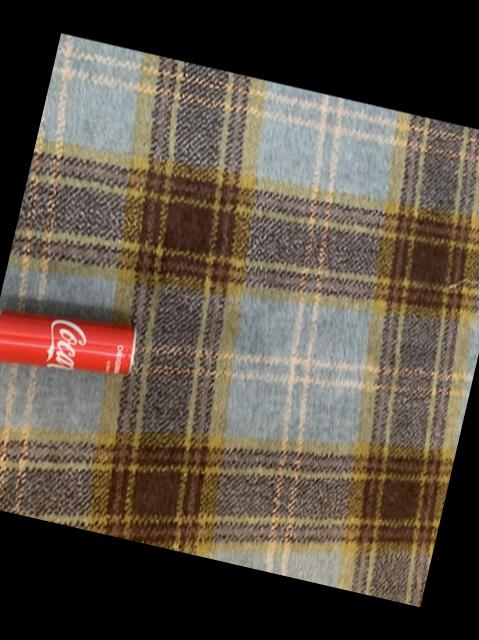metal: (0, 311, 132, 374)
